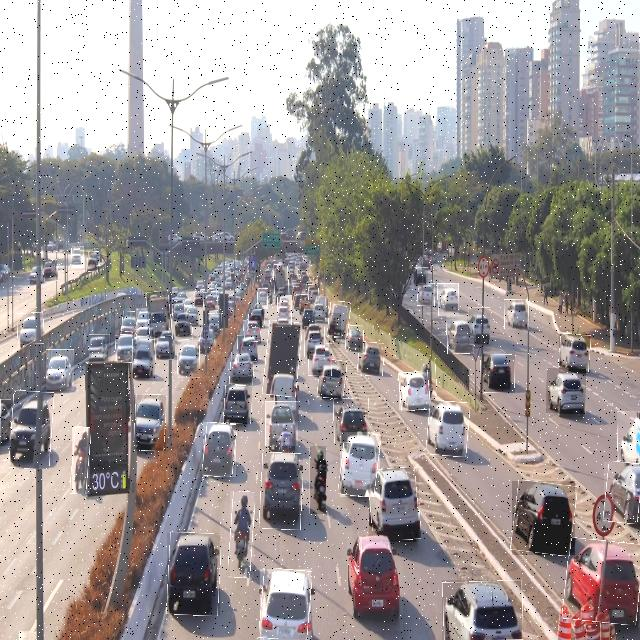Car: (564, 539, 640, 623), (348, 531, 403, 631), (442, 580, 522, 640), (512, 481, 575, 555), (167, 533, 220, 615), (370, 468, 420, 542), (260, 569, 311, 640), (260, 453, 303, 529), (11, 391, 53, 468), (340, 432, 380, 497), (427, 401, 469, 457), (604, 462, 640, 523), (546, 368, 586, 414), (203, 422, 236, 477), (134, 395, 166, 451), (334, 398, 369, 443), (480, 354, 515, 393), (559, 334, 590, 373), (399, 372, 430, 410), (617, 411, 640, 461), (46, 349, 74, 390), (223, 386, 252, 424), (318, 360, 346, 399), (447, 316, 474, 354), (132, 339, 155, 378), (357, 342, 384, 375), (328, 302, 351, 338), (468, 307, 490, 344), (178, 341, 200, 378), (18, 313, 44, 344), (504, 299, 529, 330), (309, 343, 332, 376), (230, 353, 253, 385), (438, 283, 459, 316), (90, 334, 112, 363), (115, 335, 137, 363), (305, 328, 325, 358), (172, 314, 192, 340), (0, 399, 11, 446), (238, 335, 257, 362), (155, 333, 174, 360), (346, 325, 364, 352), (278, 295, 292, 327), (418, 283, 435, 306), (244, 320, 260, 342), (208, 313, 222, 338), (312, 298, 326, 322), (301, 303, 315, 327), (249, 309, 265, 328), (122, 312, 137, 332), (414, 267, 428, 288), (44, 260, 58, 281), (204, 292, 218, 311), (72, 246, 84, 268), (136, 308, 148, 330), (88, 252, 100, 272), (257, 288, 268, 309), (173, 300, 185, 319), (186, 305, 198, 323), (27, 266, 41, 280), (309, 284, 319, 303), (194, 292, 203, 308), (294, 295, 308, 304)
Motorcycle: (230, 492, 254, 578), (72, 427, 90, 494), (309, 446, 326, 514), (422, 360, 436, 400), (329, 314, 341, 348)
Truck: (264, 322, 301, 396), (265, 401, 298, 446), (147, 292, 171, 338), (274, 264, 288, 295)
